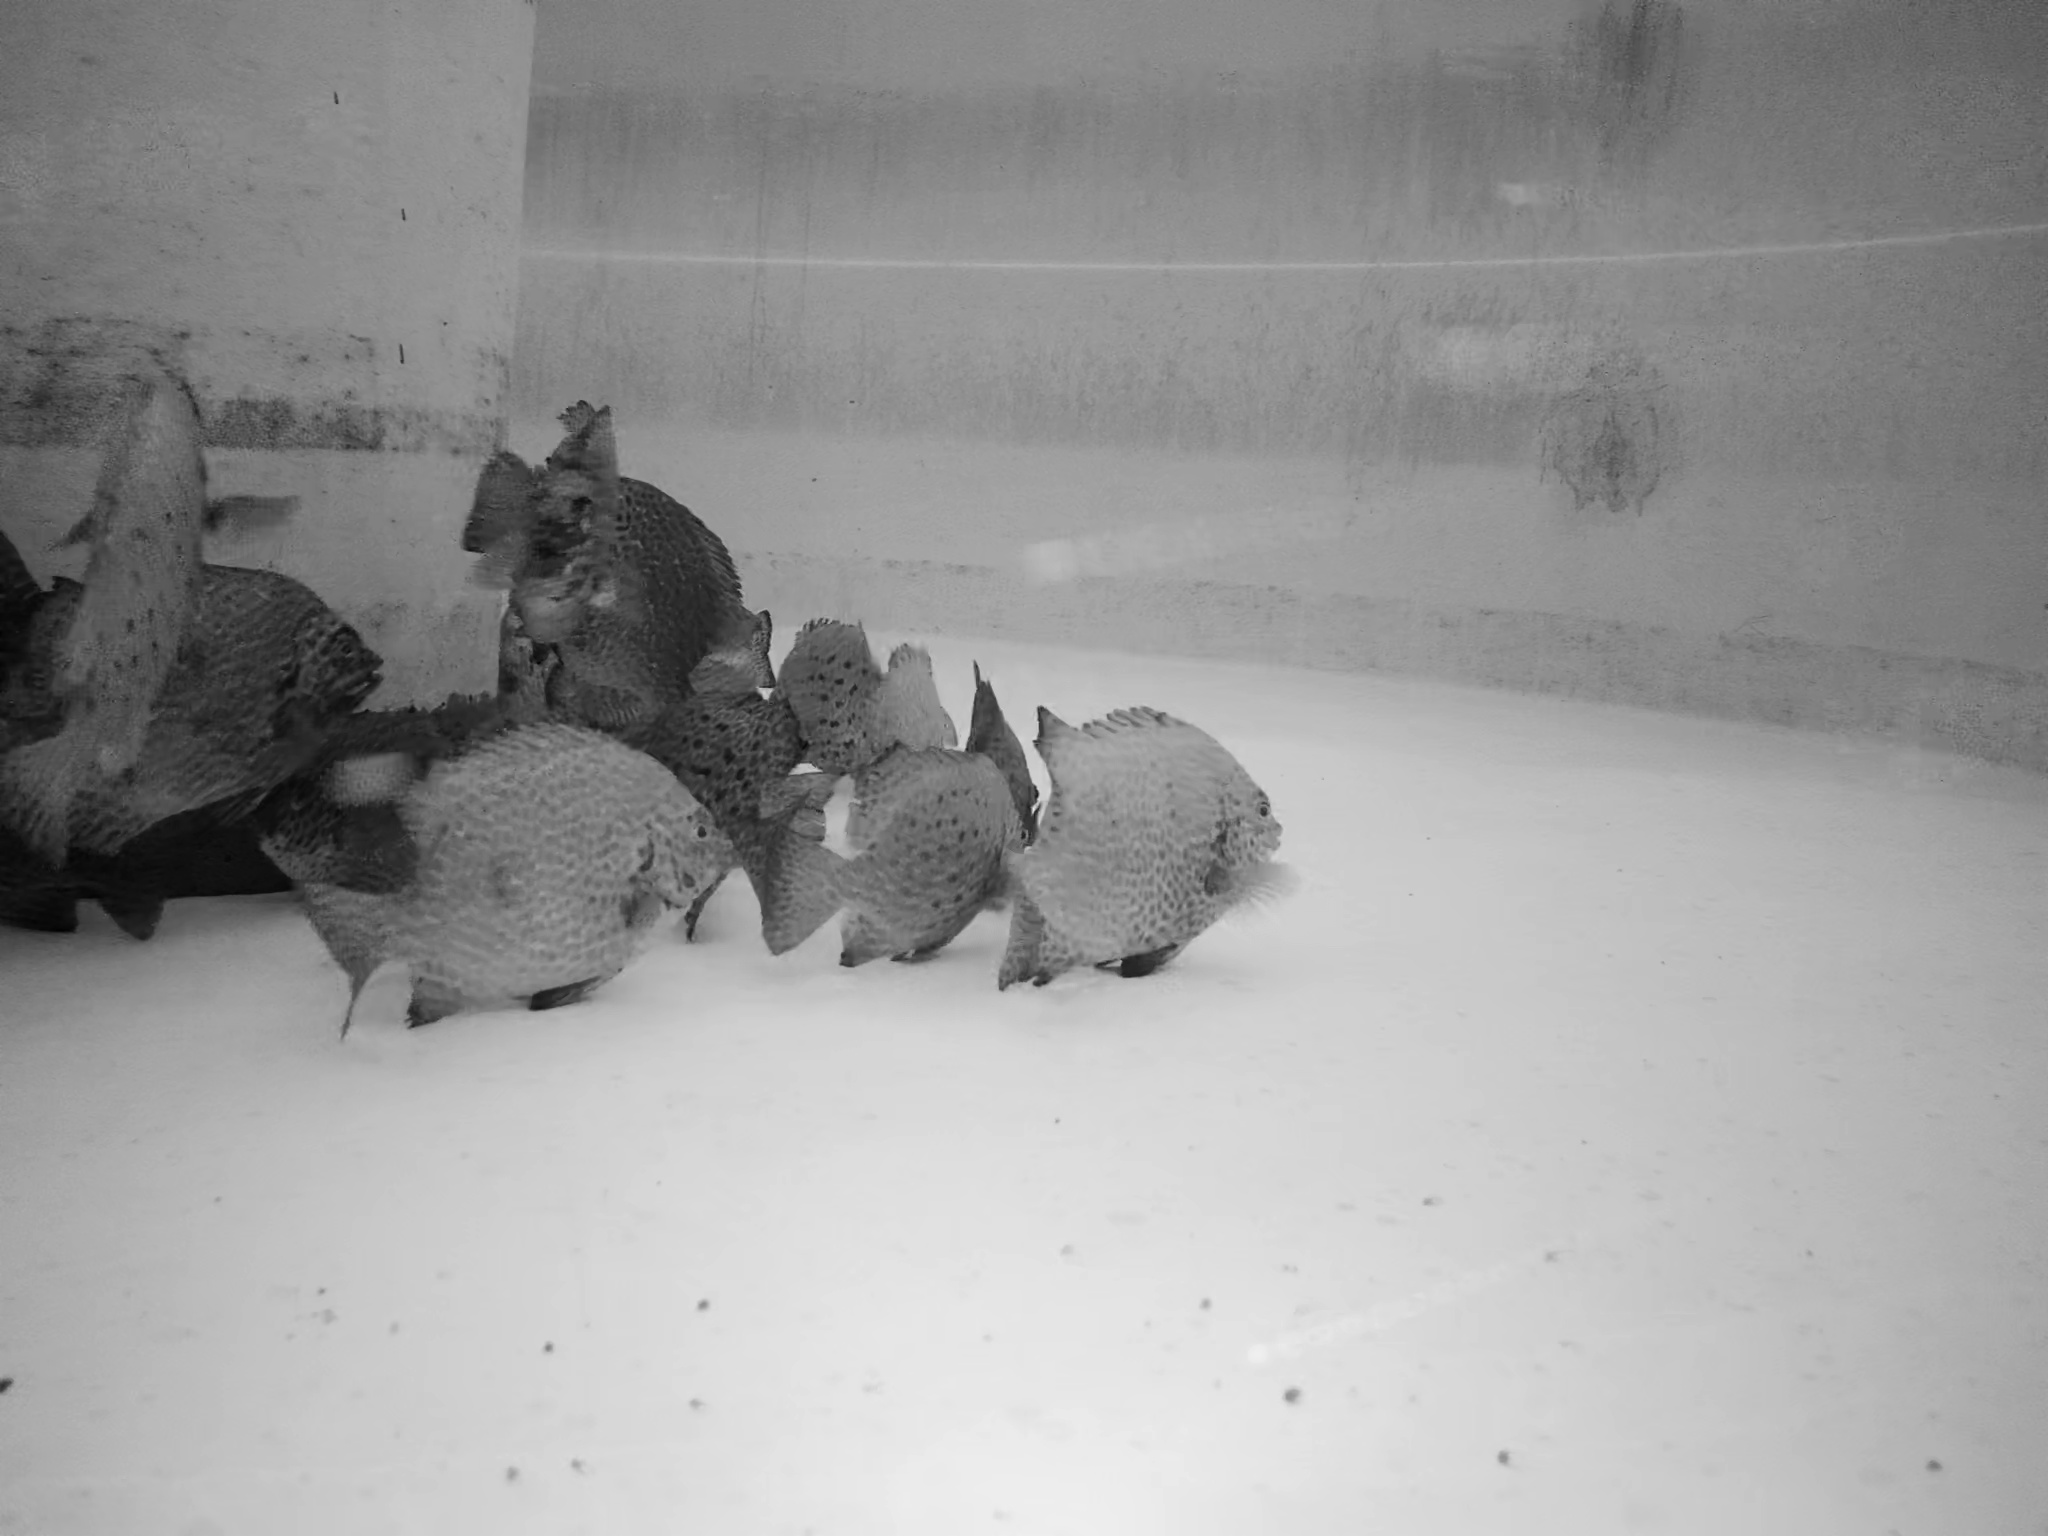fish: (279, 710, 735, 1031), (87, 558, 379, 842), (1011, 699, 1285, 986), (518, 476, 779, 720), (756, 752, 1026, 979), (98, 360, 211, 768), (463, 405, 629, 634), (785, 616, 958, 763), (645, 694, 801, 800), (964, 682, 1040, 863)
